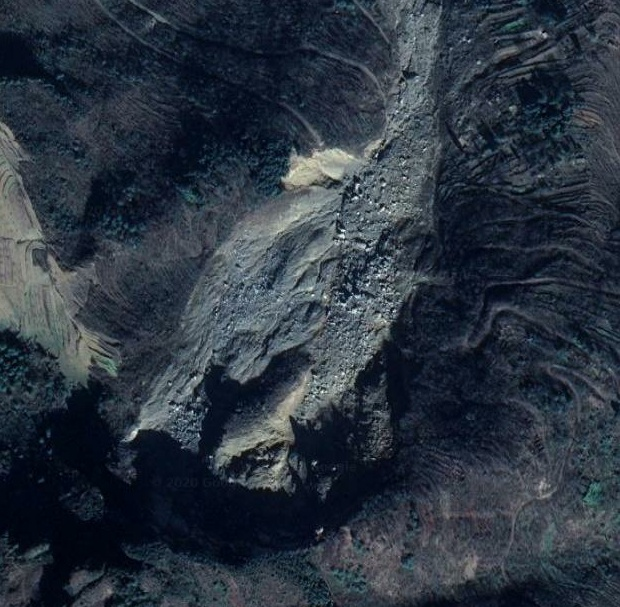slope: (196, 348, 318, 493), (281, 139, 365, 190)
